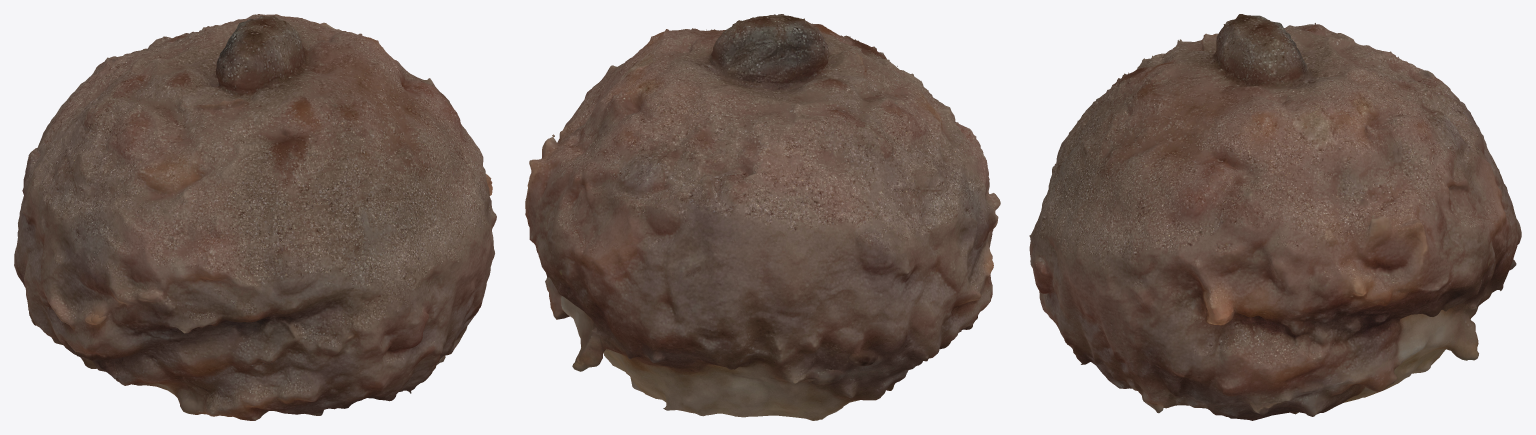
The model's file is redbean.gltf.
3 views of the same model, side by side, from view 1: azimuth 30°, elevation 25°; view 2: azimuth 150°, elevation 25°; view 3: azimuth 270°, elevation 25° (orthographic).
Size of the model in its own units: 0.9992 by 0.7758 by 1.03.
Materials: 1 (1 with a texture image).
